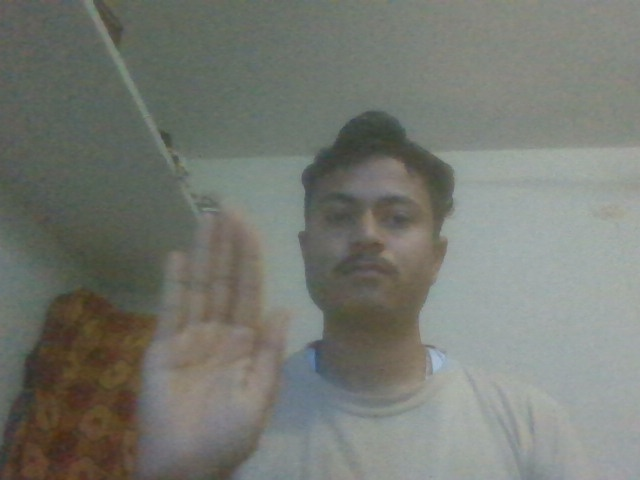Hello: (115, 199, 300, 479)
